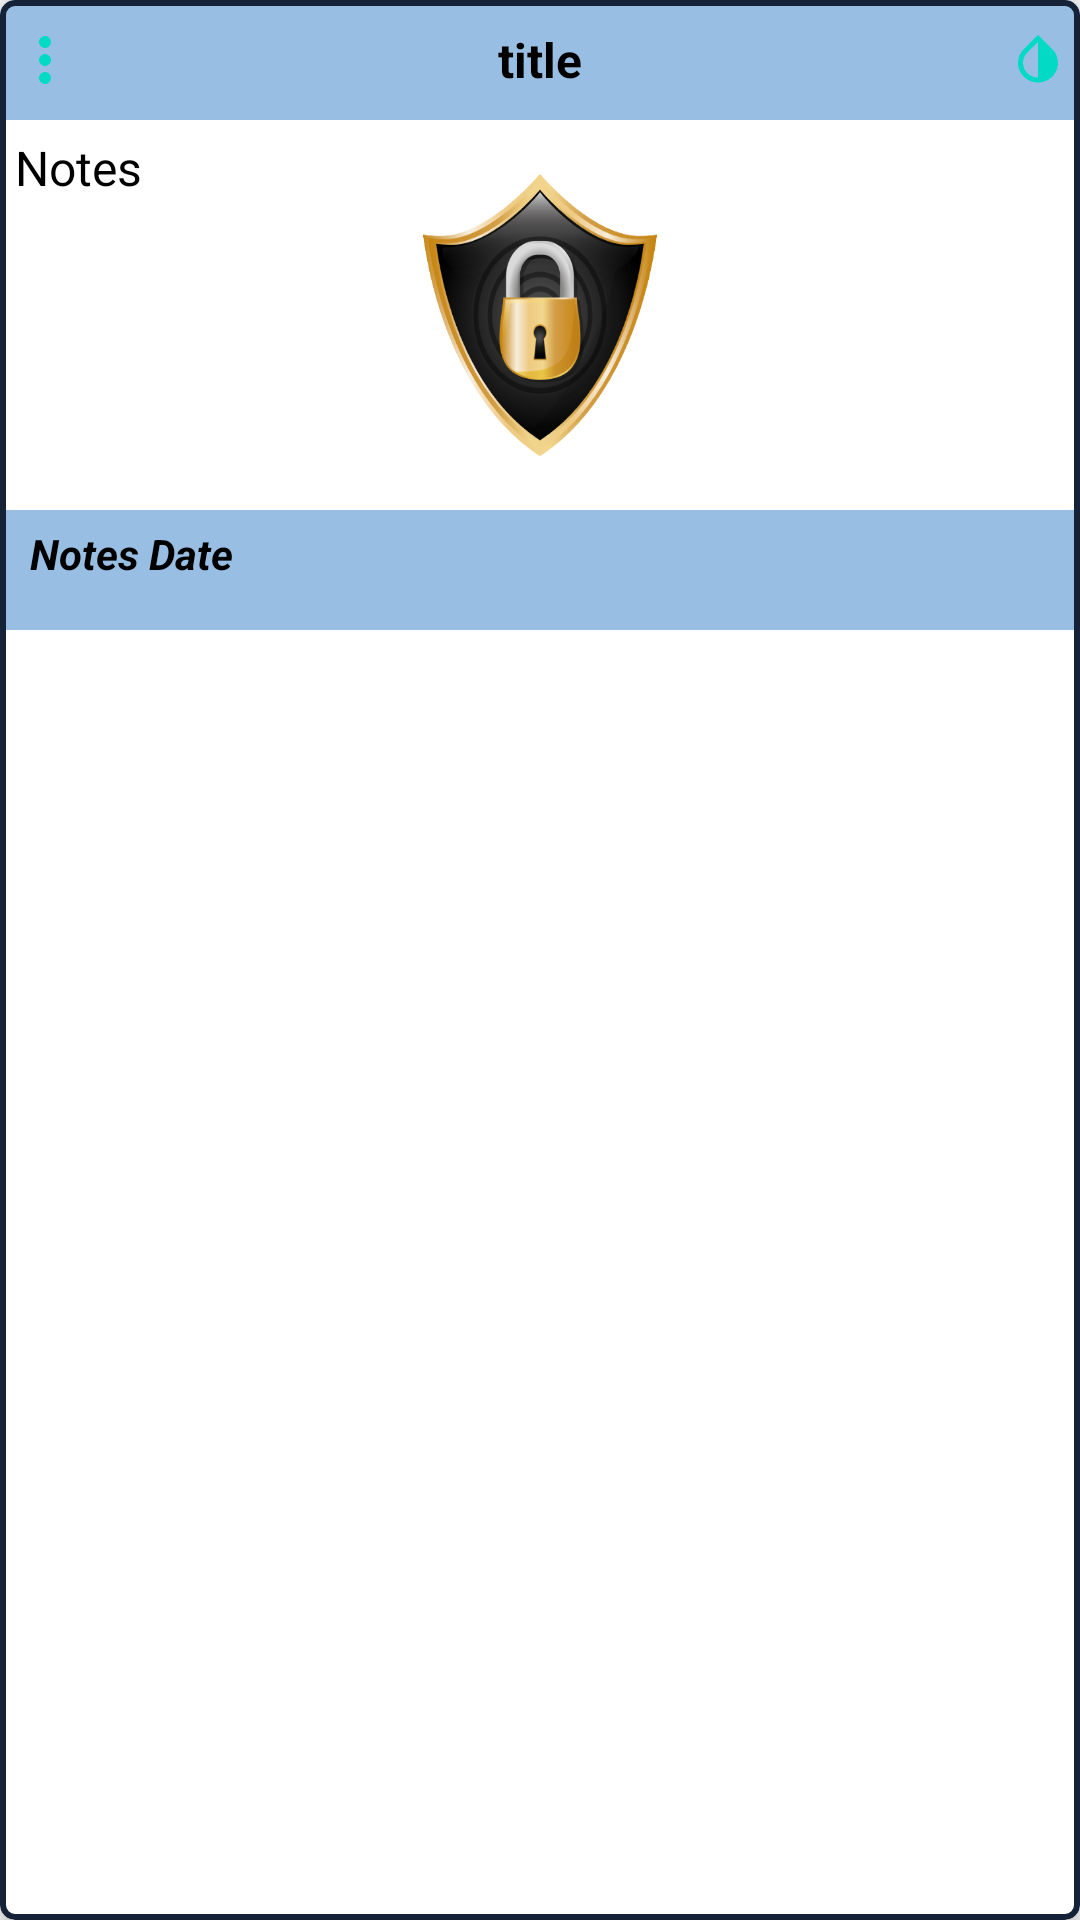

Icon click points for this 1080 x 1920 phone screenshot, format [x,y]:
more vert: [45,60]
